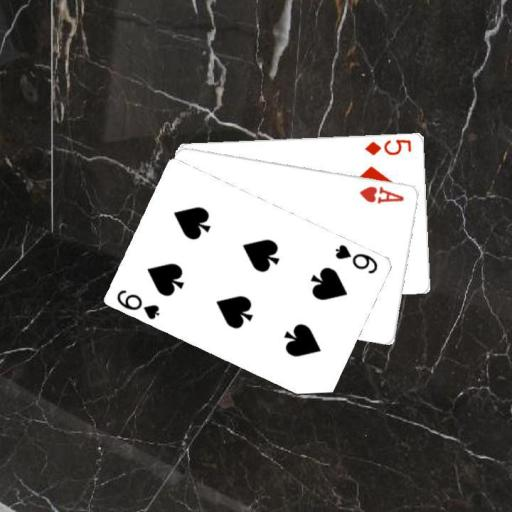5D: (362, 135, 413, 157)
6S: (114, 286, 161, 321), (332, 241, 380, 275)
AH: (356, 182, 406, 206)
